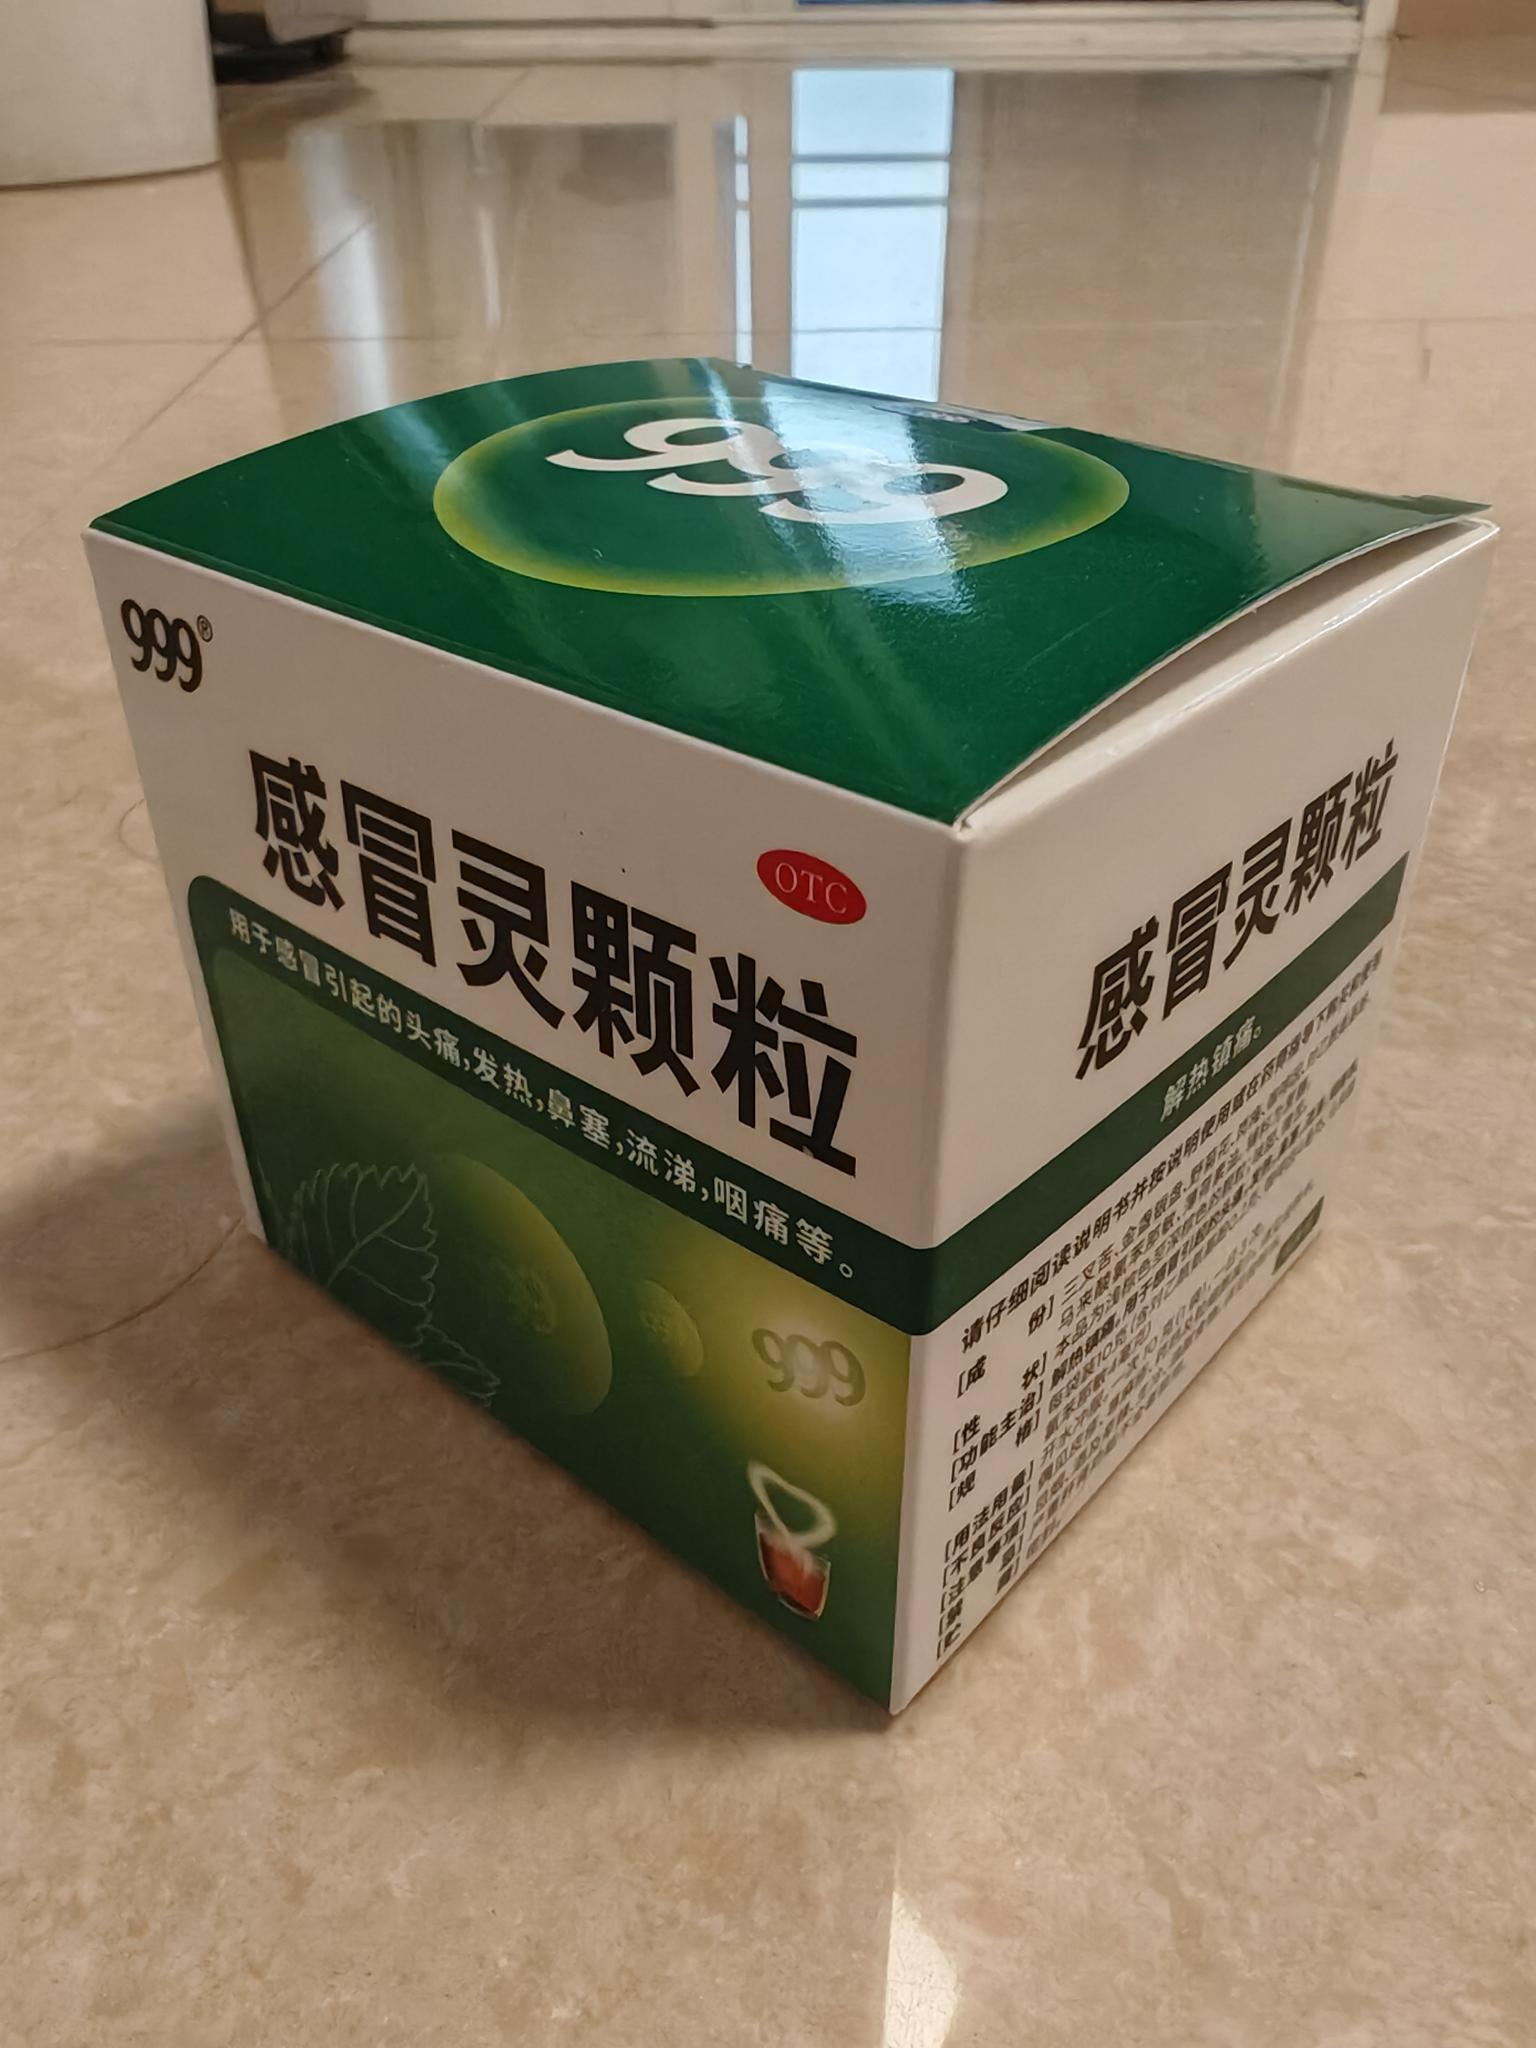Medicine3: (60, 335, 1520, 1755)
